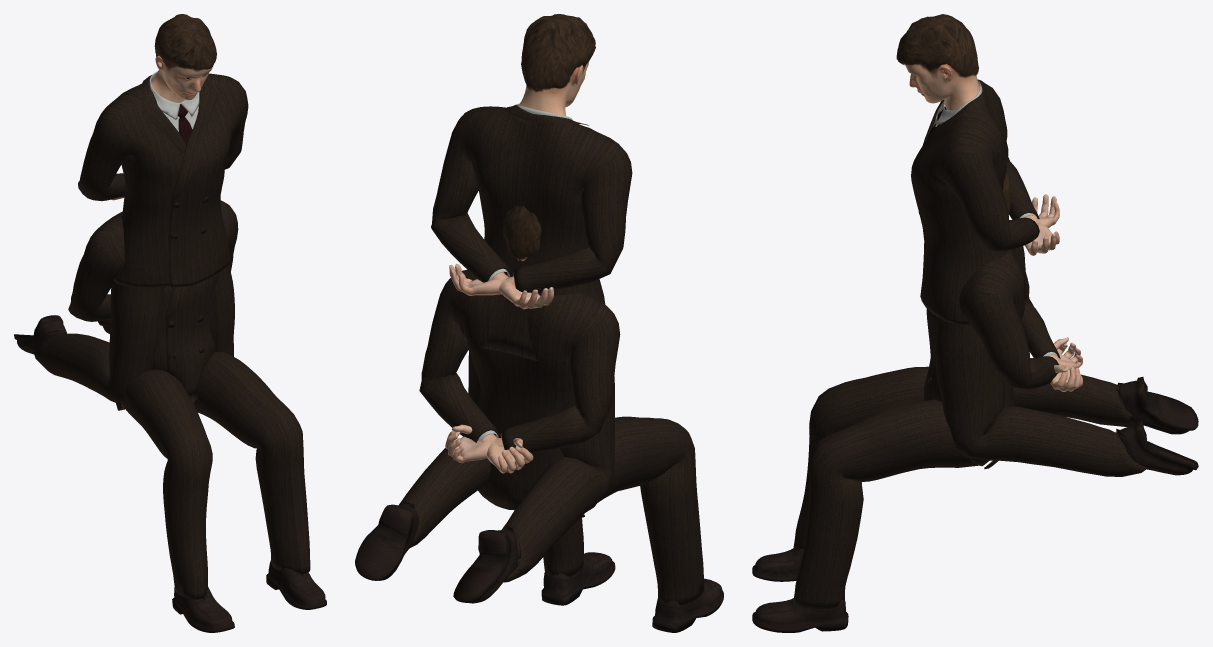
Rendered from civ_mantel_geisel.glb.
3 renders of one model, left to right at view 1: azimuth 30°, elevation 25°; view 2: azimuth 150°, elevation 25°; view 3: azimuth 270°, elevation 25°, orthographic. The views are drawn at different scales.
Visible parts, largest first — view 1: kneel, bound_seat; view 2: kneel, bound_seat; view 3: kneel, bound_seat.
Boxes of the visible parts, x1,y1,x2,y2 form: kneel: (14,14,248,403); bound_seat: (68,200,326,632); kneel: (355,14,632,603); bound_seat: (419,206,723,632); kneel: (896,14,1198,476); bound_seat: (752,170,1082,632).
Bounding box in the file's own units: 0.5486 × 1.82 × 1.26.
Materials: 7 (7 with a texture image).
